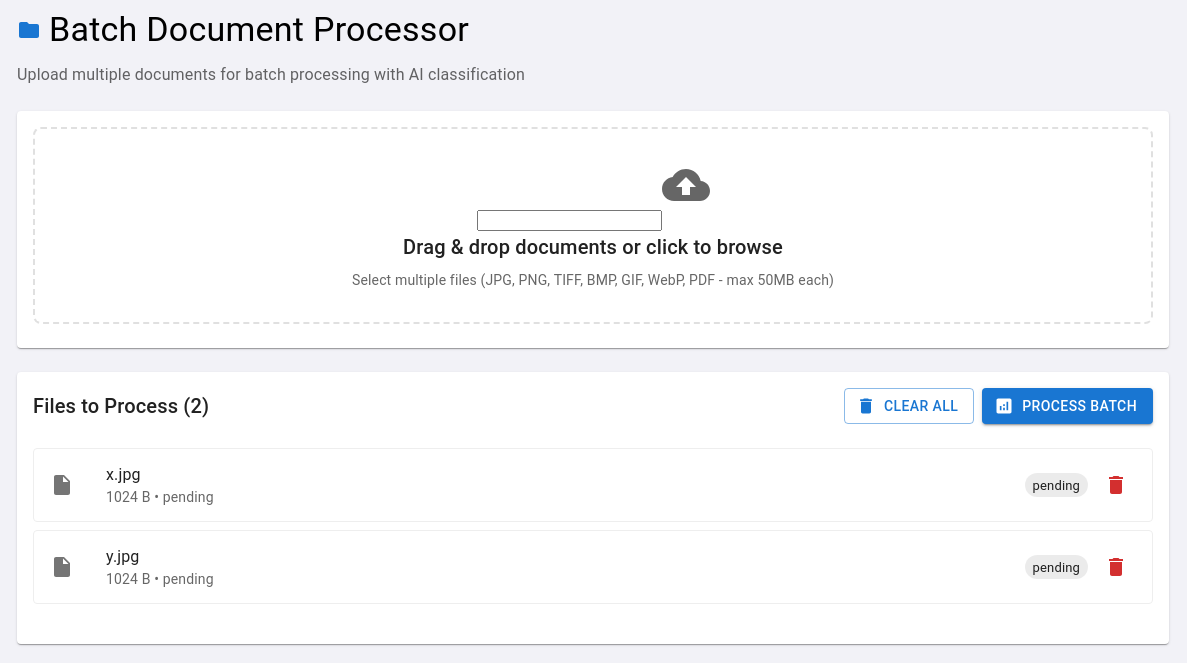
Scenario: BatchProcessor › "Clear All" button › removes all files when Clear All is clicked
Expected: the heading "Files to Process (2)" is shown, [33, 390, 209, 422]
What coordinates should you click on to do the following:
click the button "Clear All"
I would click on:
 (909, 406)
Its box is [844, 388, 974, 424].
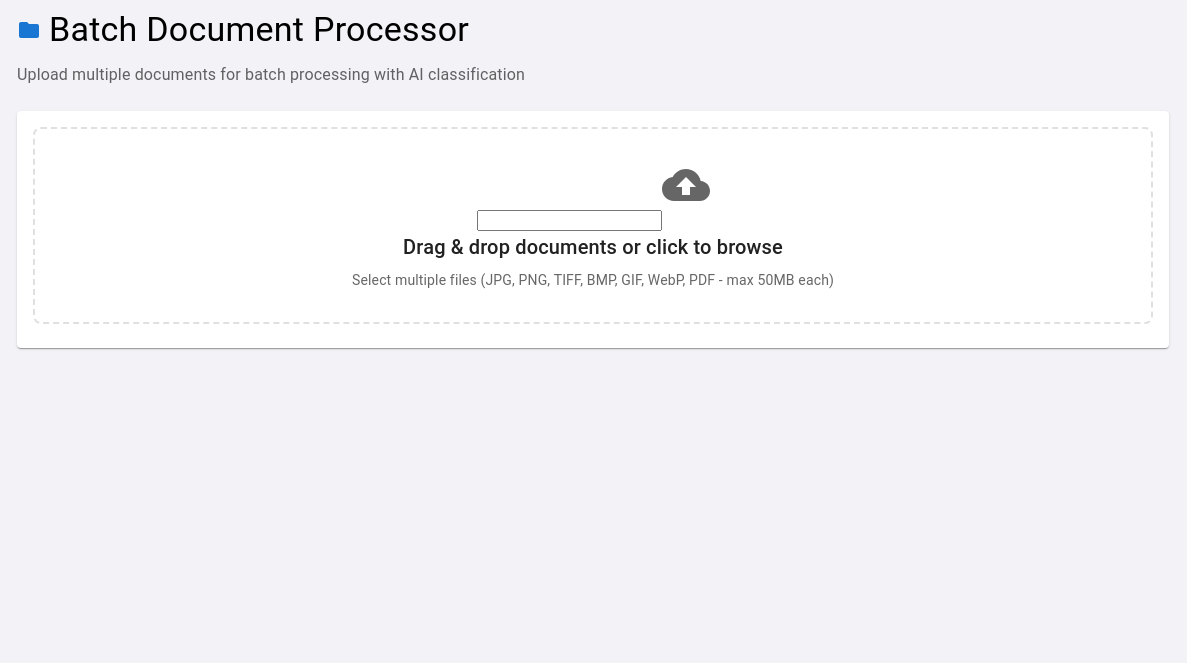
Expected: the heading "Files to Process" is gone
